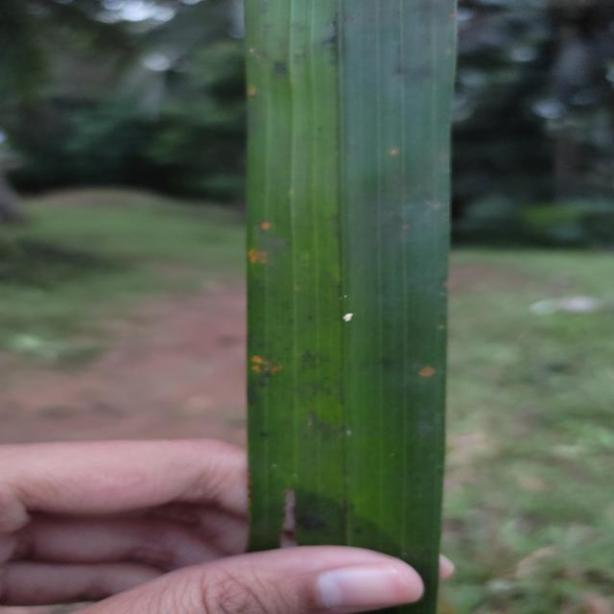Kalium: (241, 0, 458, 543)
